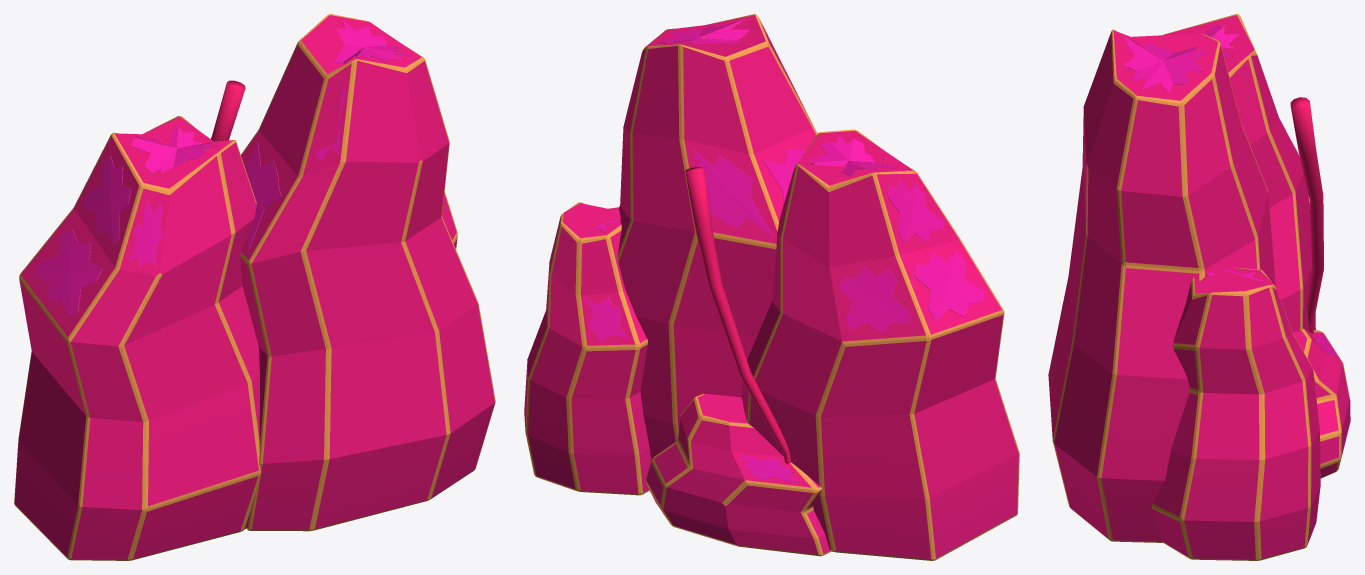
File: SM_GardenCliffBank.fbx
The picture shows the model from 3 angles, left to right: view 1: azimuth 30°, elevation 25°; view 2: azimuth 150°, elevation 25°; view 3: azimuth 270°, elevation 25°; orthographic projection. The views are drawn at different scales.
Visible parts, largest first — view 1: SM_GardenCliffBank; view 2: SM_GardenCliffBank; view 3: SM_GardenCliffBank.
Part boxes in pixels (x1,y1,x2,y2): SM_GardenCliffBank: [14, 14, 495, 560]; SM_GardenCliffBank: [524, 14, 1019, 560]; SM_GardenCliffBank: [1048, 14, 1350, 560].
Size of the model in its own units: 539 by 946 by 896.
